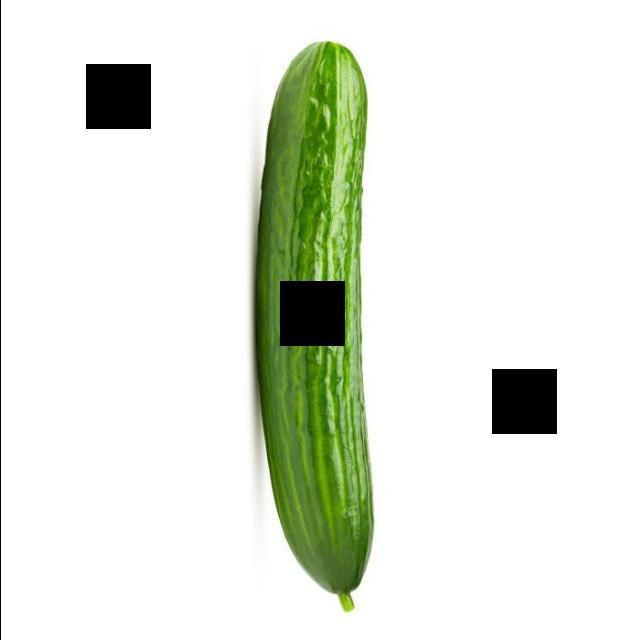cucumber: (250, 35, 375, 618)
